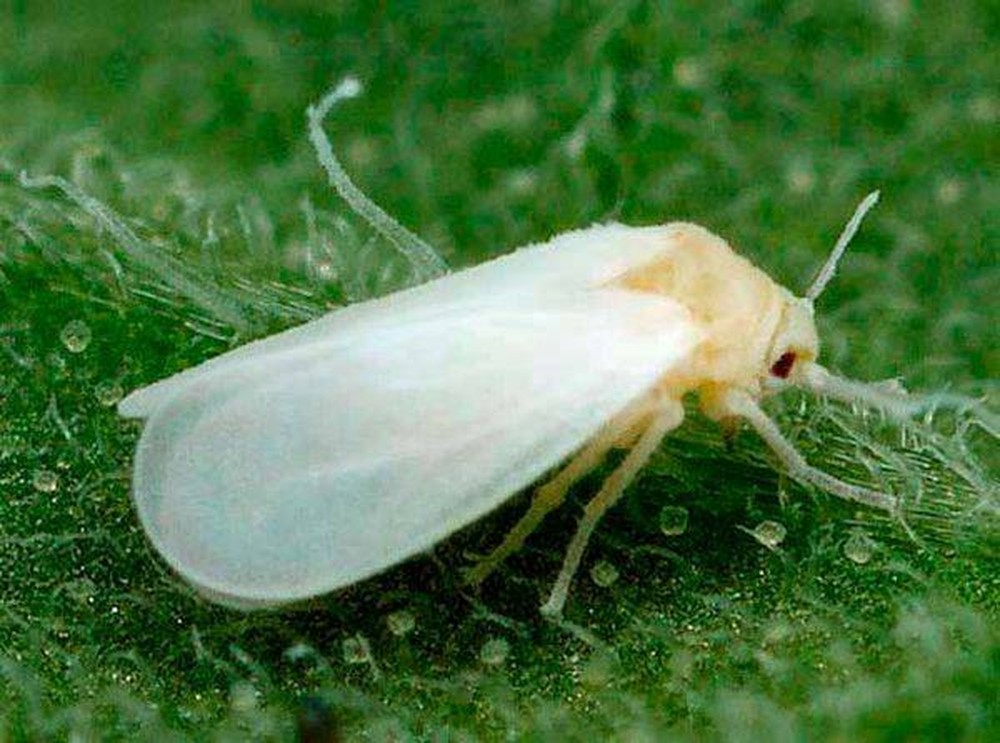Mosca Blanca: (121, 175, 935, 623)
